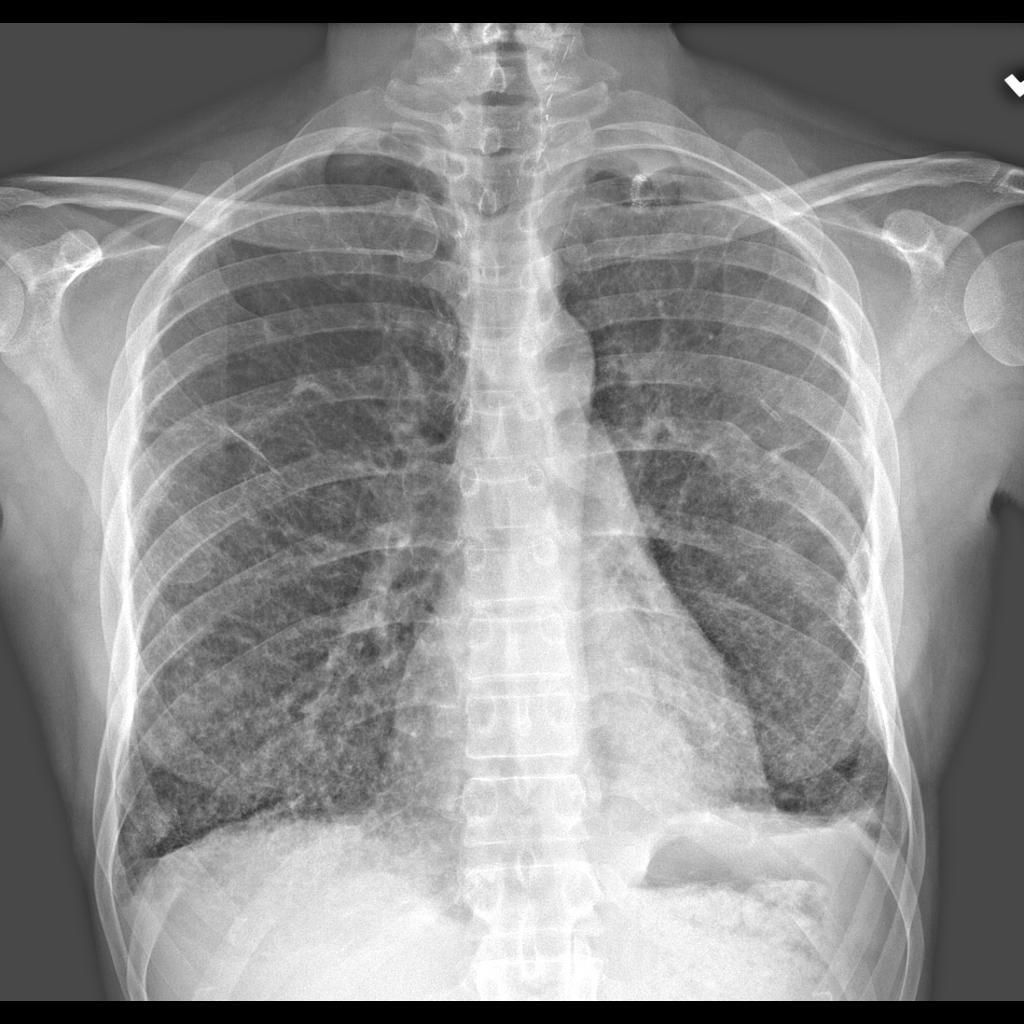Nodule: (130, 800, 179, 845)
